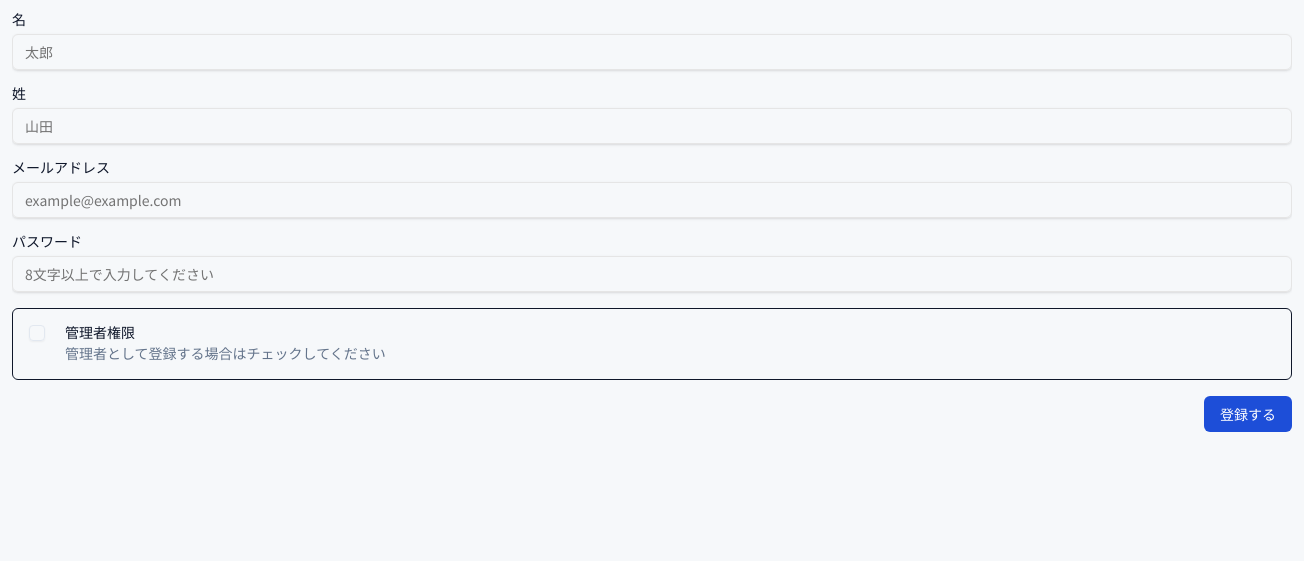
Test case: EmployeeForm › 必須フィールドのバリデーションエラーを表示する
What coordinates should you click on to do the following:
click the button "登録する"
I would click on:
 (1248, 414)
Its box is [1204,396,1292,432].
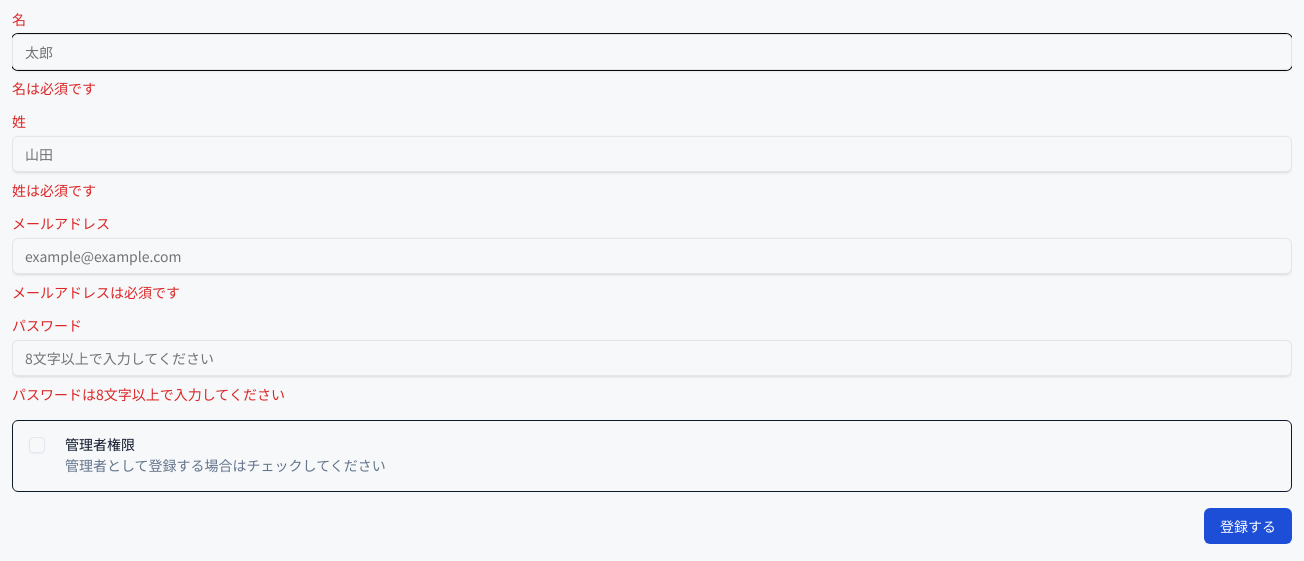
Expected: the text "名は必須です" is shown, [12,78,96,98]
Expected: the text "姓は必須です" is shown, [12,180,96,200]
Expected: the text "メールアドレスは必須です" is shown, [12,282,180,302]
